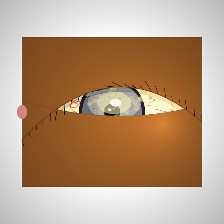corneal_ulcer: (87, 81, 142, 125)
